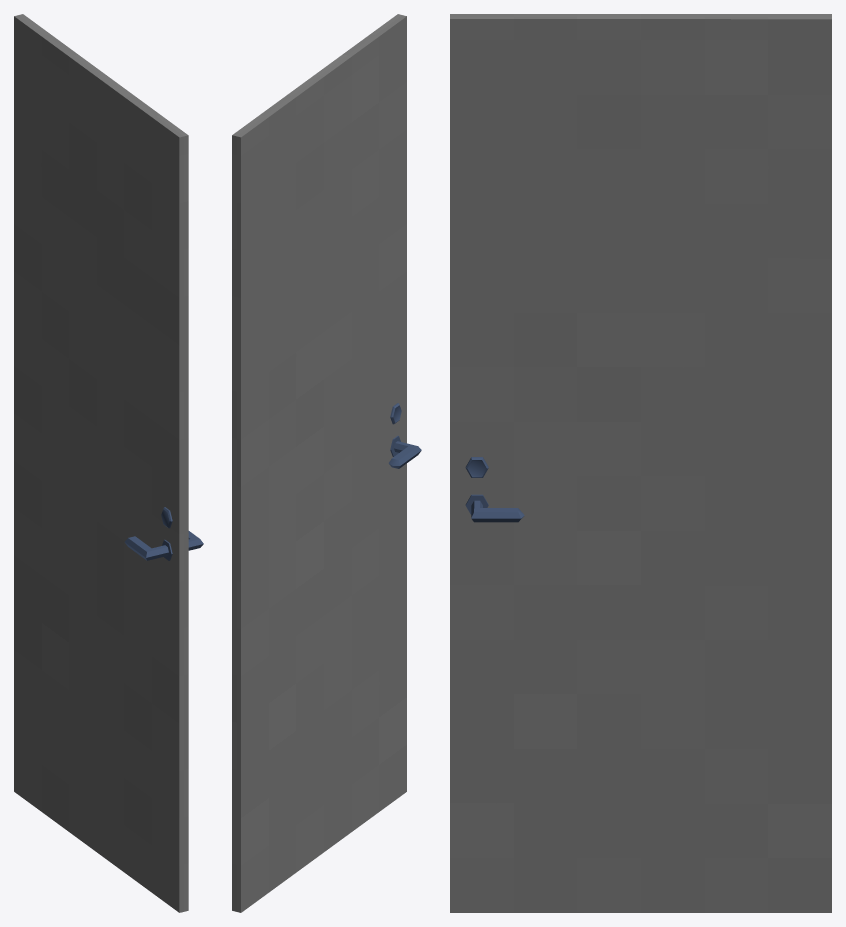
Rendered from SW_corridor__R_lobby_R_Aula_Ovi_016.FBX.
3 renders of one model, left to right at view 1: azimuth 30°, elevation 25°; view 2: azimuth 150°, elevation 25°; view 3: azimuth 270°, elevation 25°, orthographic. The views are drawn at different scales.
Visible parts, largest first — view 1: SW_corridor__R_lobby_R_Aula_Ovi_016; view 2: SW_corridor__R_lobby_R_Aula_Ovi_016; view 3: SW_corridor__R_lobby_R_Aula_Ovi_016.
Boxes of the visible parts, bbox=[...] form: SW_corridor__R_lobby_R_Aula_Ovi_016: bbox=[14, 14, 203, 912]; SW_corridor__R_lobby_R_Aula_Ovi_016: bbox=[232, 14, 421, 912]; SW_corridor__R_lobby_R_Aula_Ovi_016: bbox=[450, 14, 831, 912].
Size of the model in its own units: 16.03 by 79.37 by 205.
